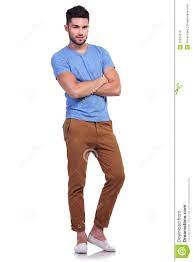face: (70, 23, 89, 44)
